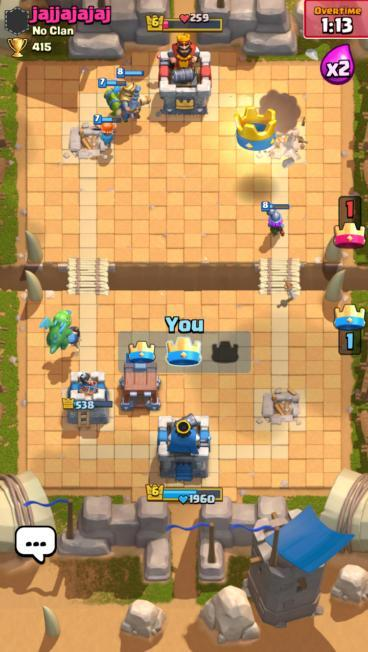ally_baby_dragon: (39, 305, 86, 360)
ally_brawler: (96, 76, 129, 117)
ally_goblin_cage: (115, 357, 167, 414)
ally_musketeer: (260, 200, 288, 239)
ally_prince: (112, 66, 152, 124)
ally_valkyrie: (92, 113, 120, 151)
